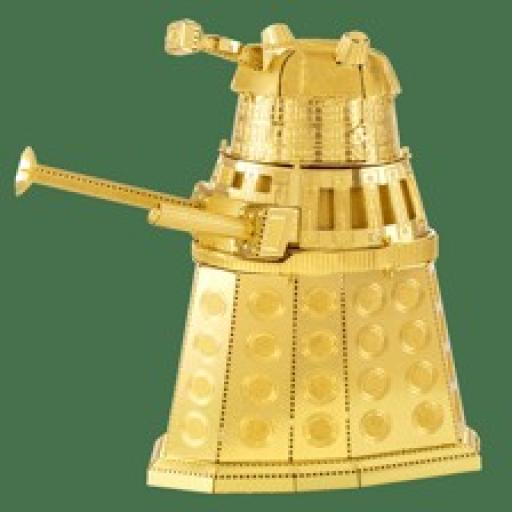dalek: (0, 16, 492, 498)
